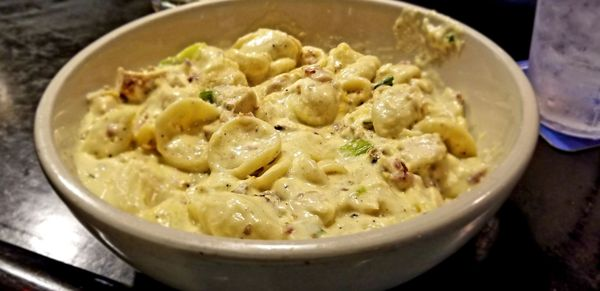sushi: (65, 0, 535, 285)
